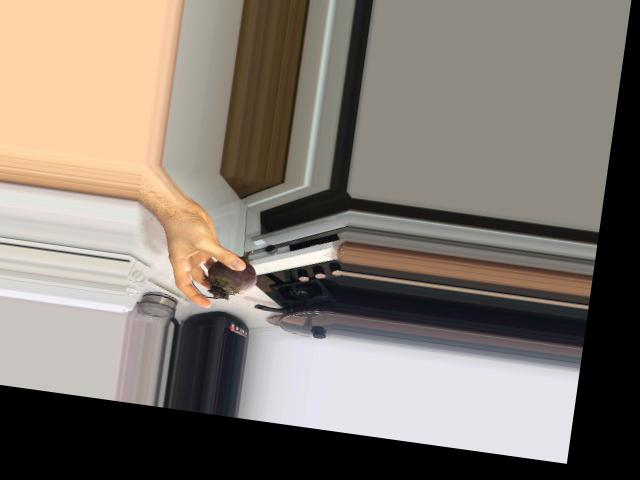beet: (191, 242, 260, 303)
